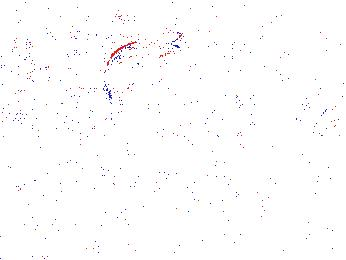moon jellyfish: (215, 37, 282, 138), (272, 37, 346, 126), (103, 39, 182, 100), (68, 45, 127, 120), (1, 51, 44, 125)
